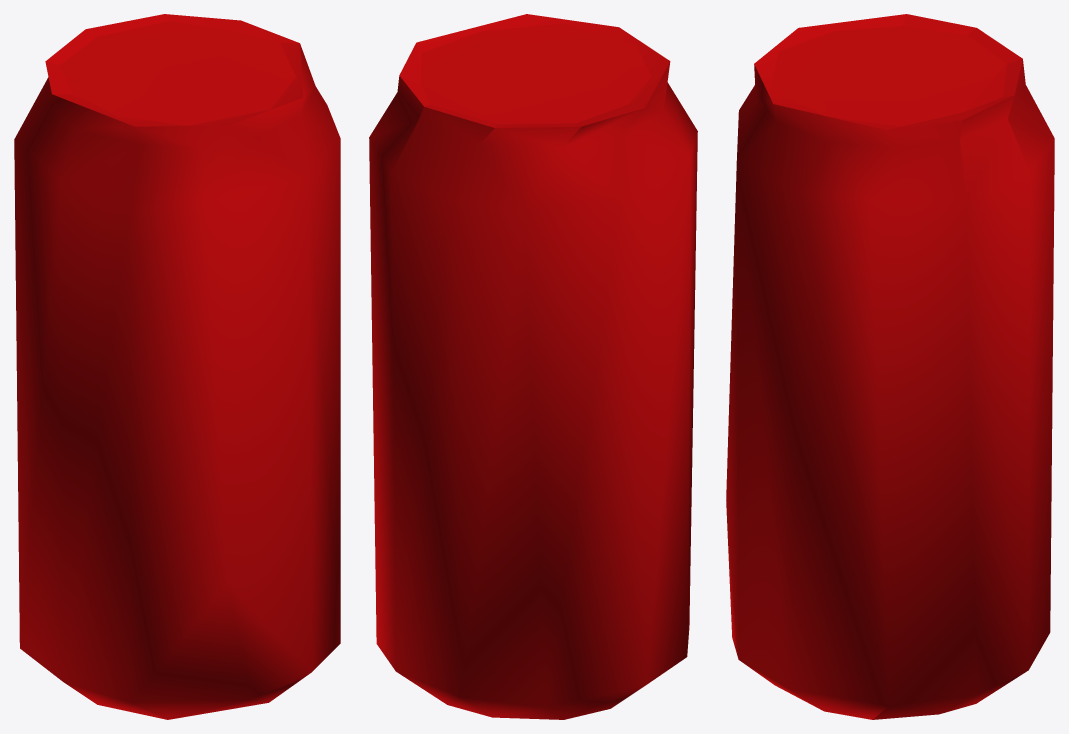
The model's file is lata.obj.
3 views of the same model, side by side, from view 1: azimuth 30°, elevation 25°; view 2: azimuth 150°, elevation 25°; view 3: azimuth 270°, elevation 25° (orthographic).
Visible parts, largest first — view 1: Cilindro; view 2: Cilindro; view 3: Cilindro.
Part boxes in pixels (box(x1,y1,x2,y2)): Cilindro: box(14, 14, 340, 719); Cilindro: box(369, 14, 697, 719); Cilindro: box(726, 14, 1054, 719).
Bounding box in the file's own units: 1.25 × 2.57 × 1.27.
